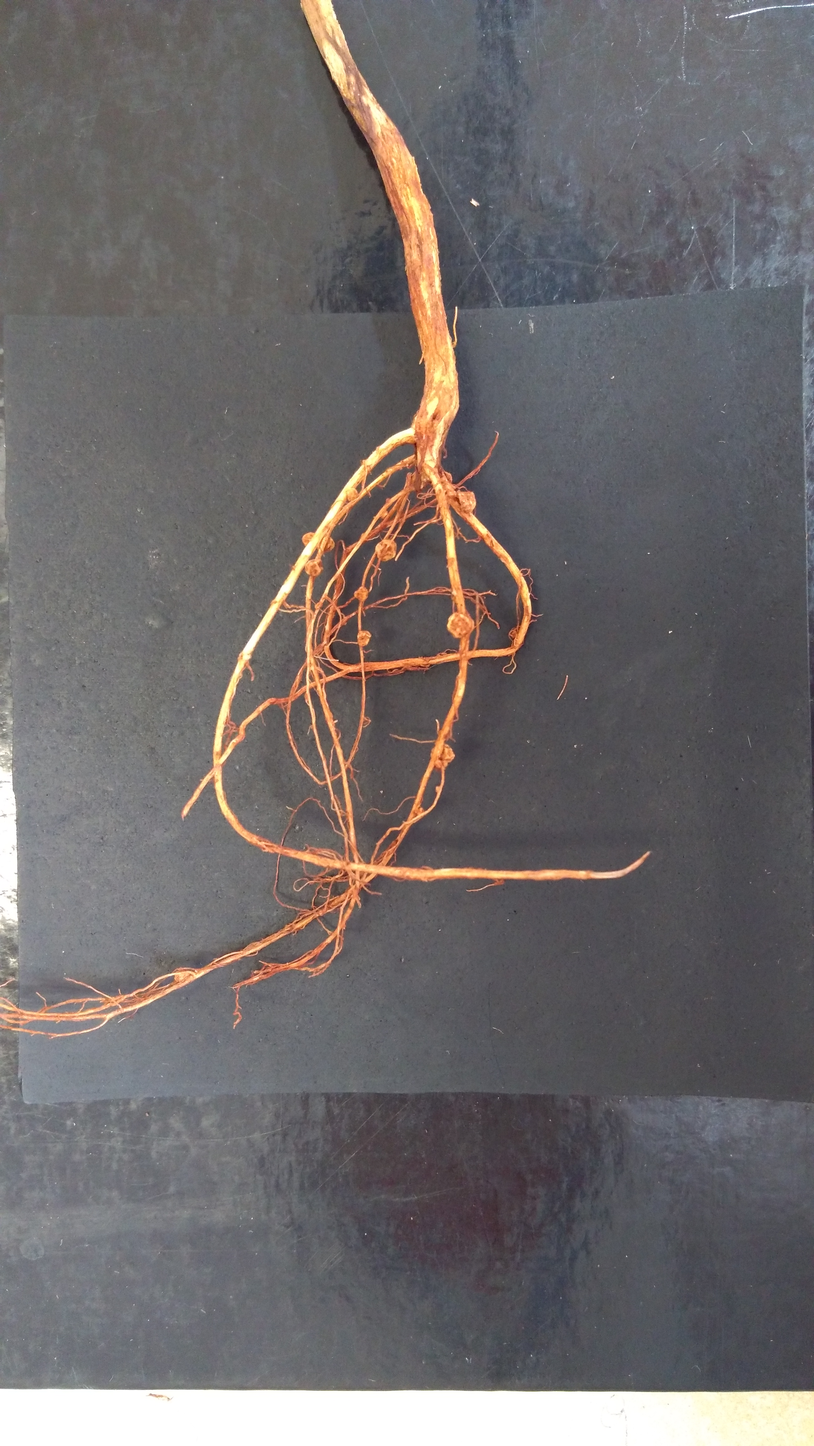nodule: (446, 612, 474, 639), (302, 532, 335, 553), (430, 742, 455, 769), (375, 539, 397, 561), (458, 491, 476, 513), (305, 558, 323, 577), (438, 471, 452, 490), (354, 586, 368, 602), (357, 630, 371, 646), (174, 970, 190, 982), (346, 488, 359, 501), (362, 716, 370, 728), (416, 807, 424, 817), (511, 629, 518, 640), (381, 510, 388, 519), (315, 602, 323, 609), (436, 785, 440, 792), (386, 498, 390, 503)
